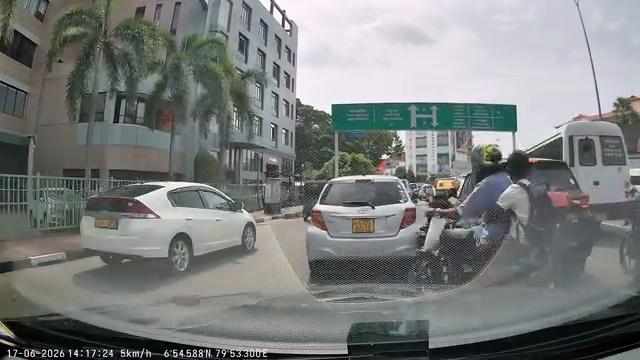no helmet: (505, 151, 534, 186)
